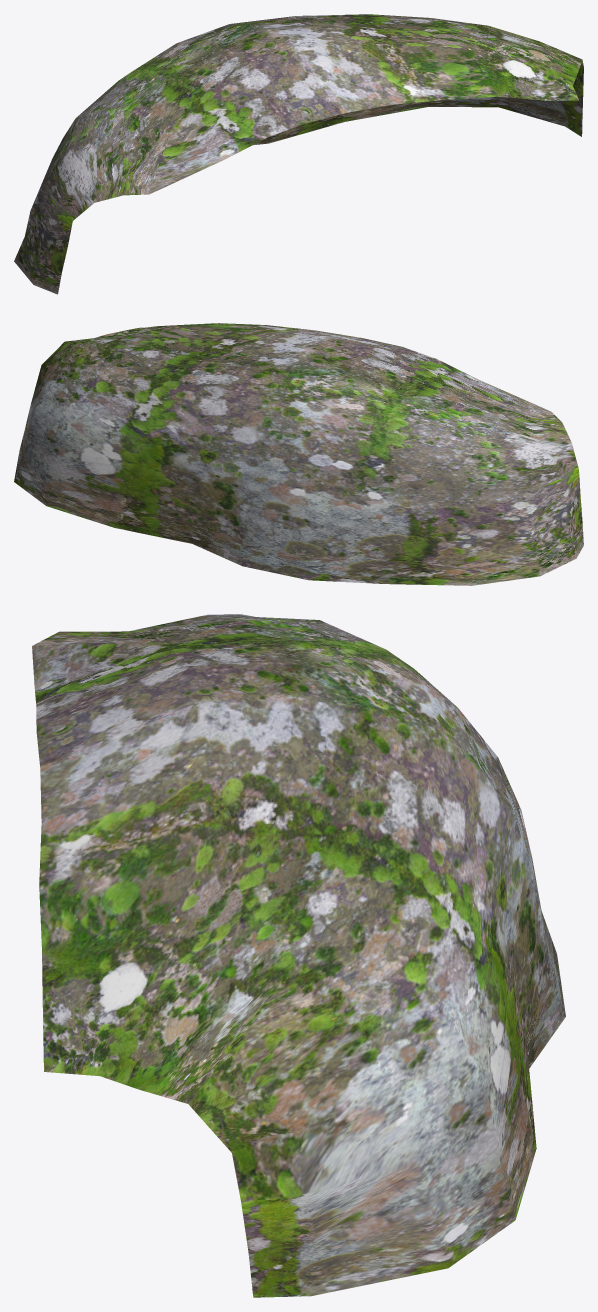
The model's file is Stone.FBX.
The picture shows the model from 3 angles, top to bottom: view 1: azimuth 30°, elevation 25°; view 2: azimuth 150°, elevation 25°; view 3: azimuth 270°, elevation 25°; orthographic projection. The views are drawn at different scales.
Parts seen in each view (by area): view 1: Ext_Rock_AngleOut_01; view 2: Ext_Rock_AngleOut_01; view 3: Ext_Rock_AngleOut_01.
Part boxes in pixels (x1,y1,x2,y2): Ext_Rock_AngleOut_01: (14, 14, 583, 294); Ext_Rock_AngleOut_01: (14, 323, 583, 585); Ext_Rock_AngleOut_01: (32, 614, 565, 1297).
Bounding box in the file's own units: 16940 × 4938 × 7381.
